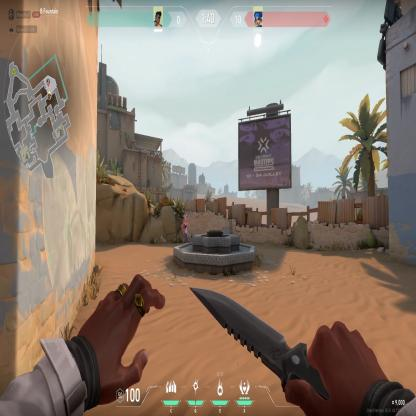enemy: (181, 214, 190, 244)
